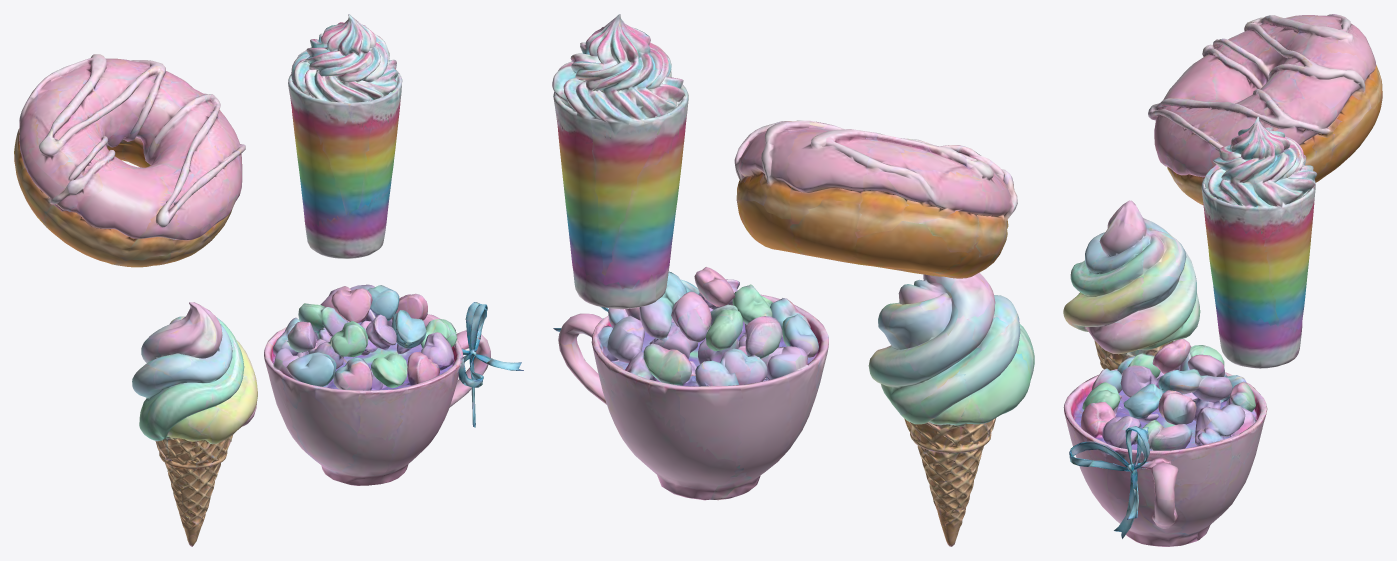
3 views of the same model, side by side, from view 1: azimuth 30°, elevation 25°; view 2: azimuth 150°, elevation 25°; view 3: azimuth 270°, elevation 25° (orthographic). The views are drawn at different scales.
Parts seen in each view (by area): view 1: Mesh 1, Mesh 3, Mesh 6, Mesh 2; view 2: Mesh 3, Mesh 1, Mesh 6, Mesh 2; view 3: Mesh 3, Mesh 1, Mesh 6, Mesh 2.
Part boxes in pixels (bbox=[...]): Mesh 1: bbox=[14, 54, 245, 267]; Mesh 3: bbox=[264, 284, 523, 485]; Mesh 6: bbox=[288, 14, 402, 258]; Mesh 2: bbox=[132, 302, 257, 546]; Mesh 3: bbox=[553, 267, 828, 500]; Mesh 1: bbox=[734, 120, 1017, 278]; Mesh 6: bbox=[552, 14, 688, 309]; Mesh 2: bbox=[868, 272, 1034, 546]; Mesh 3: bbox=[1063, 339, 1267, 546]; Mesh 1: bbox=[1148, 14, 1382, 205]; Mesh 6: bbox=[1201, 117, 1317, 368]; Mesh 2: bbox=[1063, 200, 1200, 370].
Size of the model in its own units: 1.9 by 1.84 by 1.18.
Materials: 4 (4 with a texture image).
